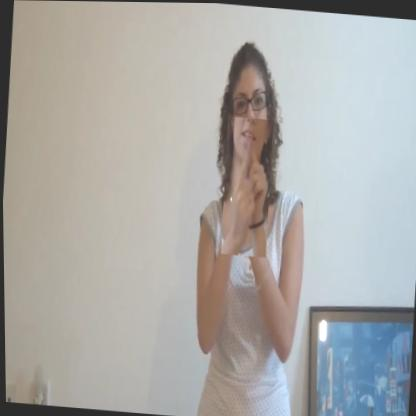NiceToMeetYou: (218, 116, 275, 258)
